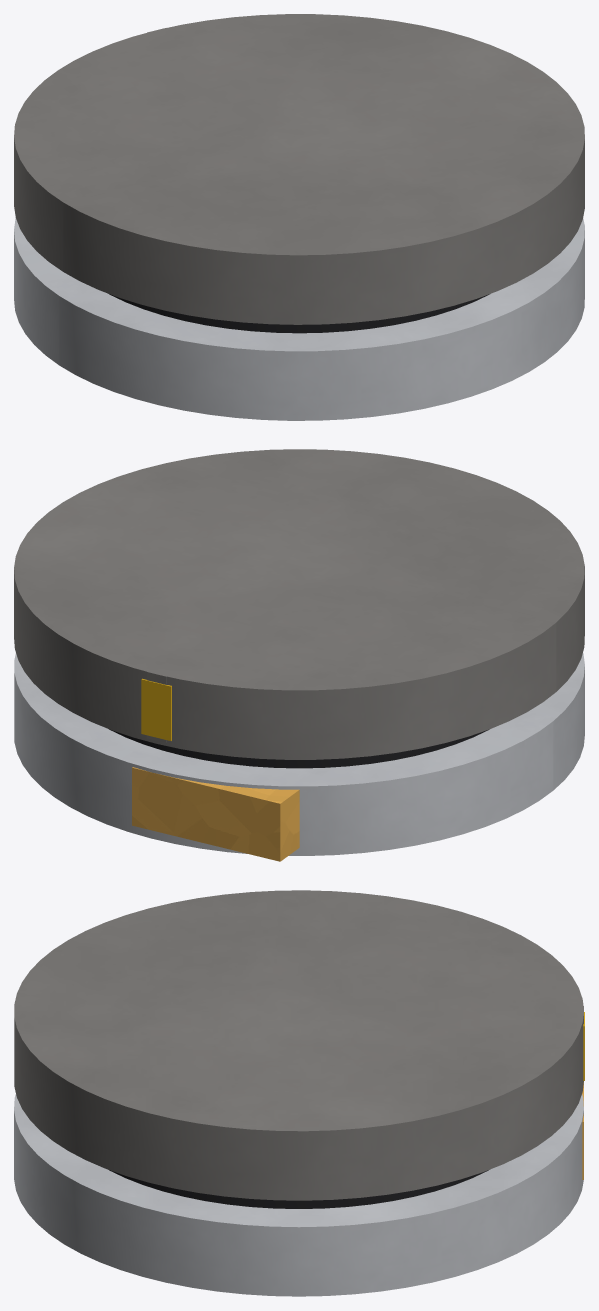
The model's file is robo01_rotor_m_rot90.glb.
3 renders of one model, top to bottom at view 1: azimuth 30°, elevation 25°; view 2: azimuth 150°, elevation 25°; view 3: azimuth 270°, elevation 25°, orthographic.
Visible parts, largest first — view 1: half_b_rotor, base, bearing; view 2: half_b_rotor, base, drive, bearing, half_b_mark; view 3: half_b_rotor, base, bearing.
Boxes of the visible parts, left/top/right/bottom form: half_b_rotor: left=14, top=14, right=584, bottom=324; base: left=14, top=218, right=584, bottom=420; bearing: left=109, top=294, right=489, bottom=333; half_b_rotor: left=14, top=449, right=584, bottom=759; base: left=14, top=653, right=584, bottom=855; drive: left=132, top=767, right=299, bottom=861; bearing: left=109, top=729, right=489, bottom=768; half_b_mark: left=141, top=678, right=171, bottom=740; half_b_rotor: left=14, top=890, right=583, bottom=1200; base: left=14, top=1094, right=583, bottom=1296; bearing: left=109, top=1170, right=488, bottom=1208.
Bounding box in the file's own units: 1.25 × 0.4 × 1.25.
6 materials, 3 textured.
